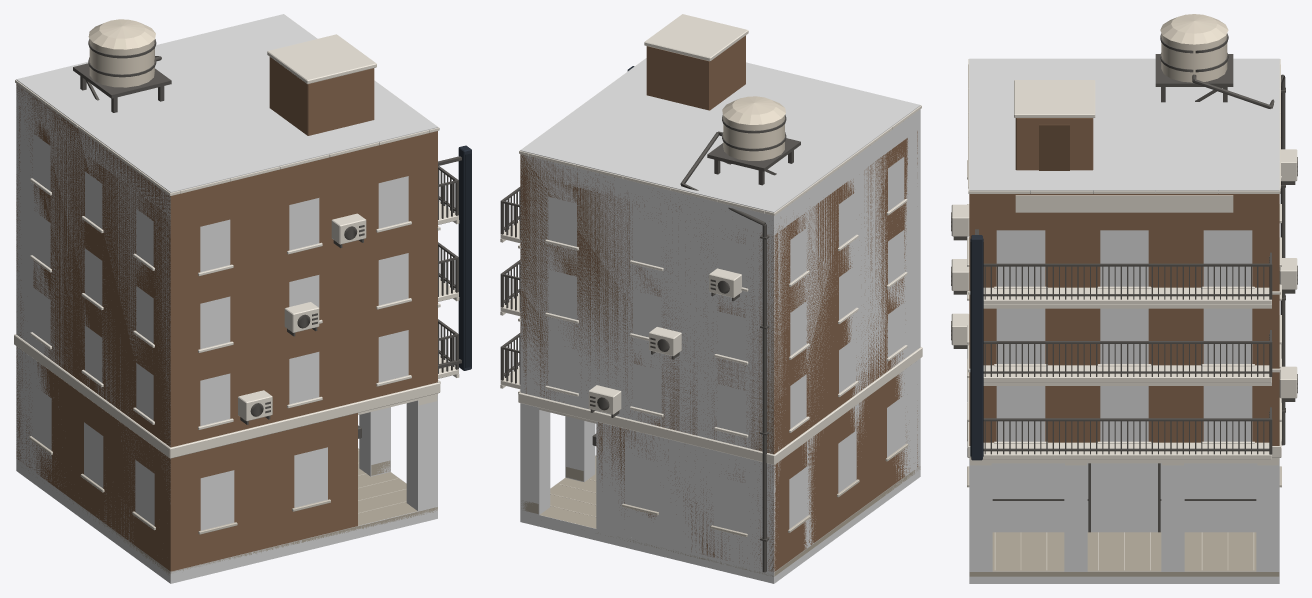
3 renders of one model, left to right at view 1: azimuth 30°, elevation 25°; view 2: azimuth 150°, elevation 25°; view 3: azimuth 270°, elevation 25°, orthographic. The views are drawn at different scales.
Parts seen in each view (by area): view 1: T05_body, col_upper, col_ground, col_floor, col_arcade_-3.7, col_arcade_-1.2; view 2: col_upper, T05_body, col_ground, col_floor, col_arcade_+3.7, col_arcade_+1.2; view 3: T05_body, col_upper, col_ground, col_floor, col_arcade_+3.7, col_arcade_-3.7, col_arcade_+1.2, col_arcade_-1.2.
Part boxes in pixels (x1,y1,x2,y2): T05_body: (14, 15, 471, 575); col_upper: (16, 14, 437, 446); col_ground: (16, 346, 327, 542); col_floor: (16, 448, 437, 583); col_arcade_-3.7: (406, 395, 437, 511); col_arcade_-1.2: (359, 407, 390, 476); col_upper: (520, 58, 920, 453); T05_body: (500, 14, 922, 576); col_ground: (596, 358, 920, 571); col_floor: (520, 455, 920, 583); col_arcade_+3.7: (520, 403, 550, 514); col_arcade_+1.2: (565, 416, 595, 481); T05_body: (951, 14, 1297, 576); col_upper: (969, 58, 1279, 441); col_ground: (992, 463, 1256, 532); col_floor: (969, 571, 1279, 583); col_arcade_+3.7: (1256, 460, 1279, 571); col_arcade_-3.7: (969, 460, 992, 571); col_arcade_+1.2: (1161, 463, 1184, 571); col_arcade_-1.2: (1064, 463, 1087, 571).
Size of the model in its own units: 9.11 by 13.16 by 8.94.
